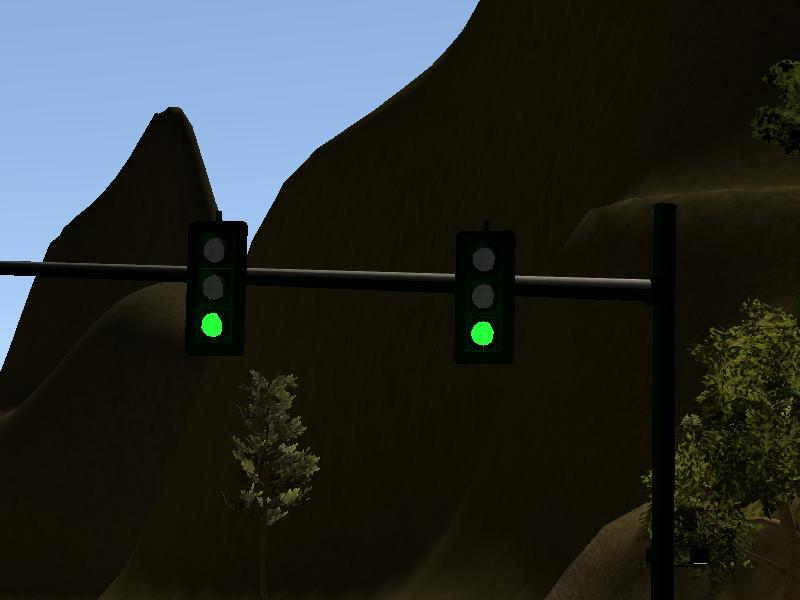Green: (454, 228, 515, 364), (186, 221, 245, 357)
